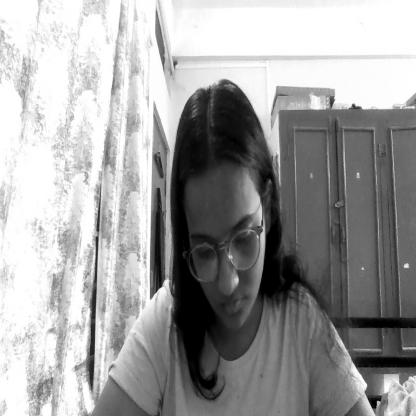Distracted: (176, 85, 281, 334)
